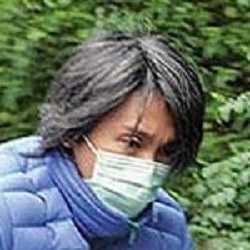mask: (75, 136, 172, 220)
